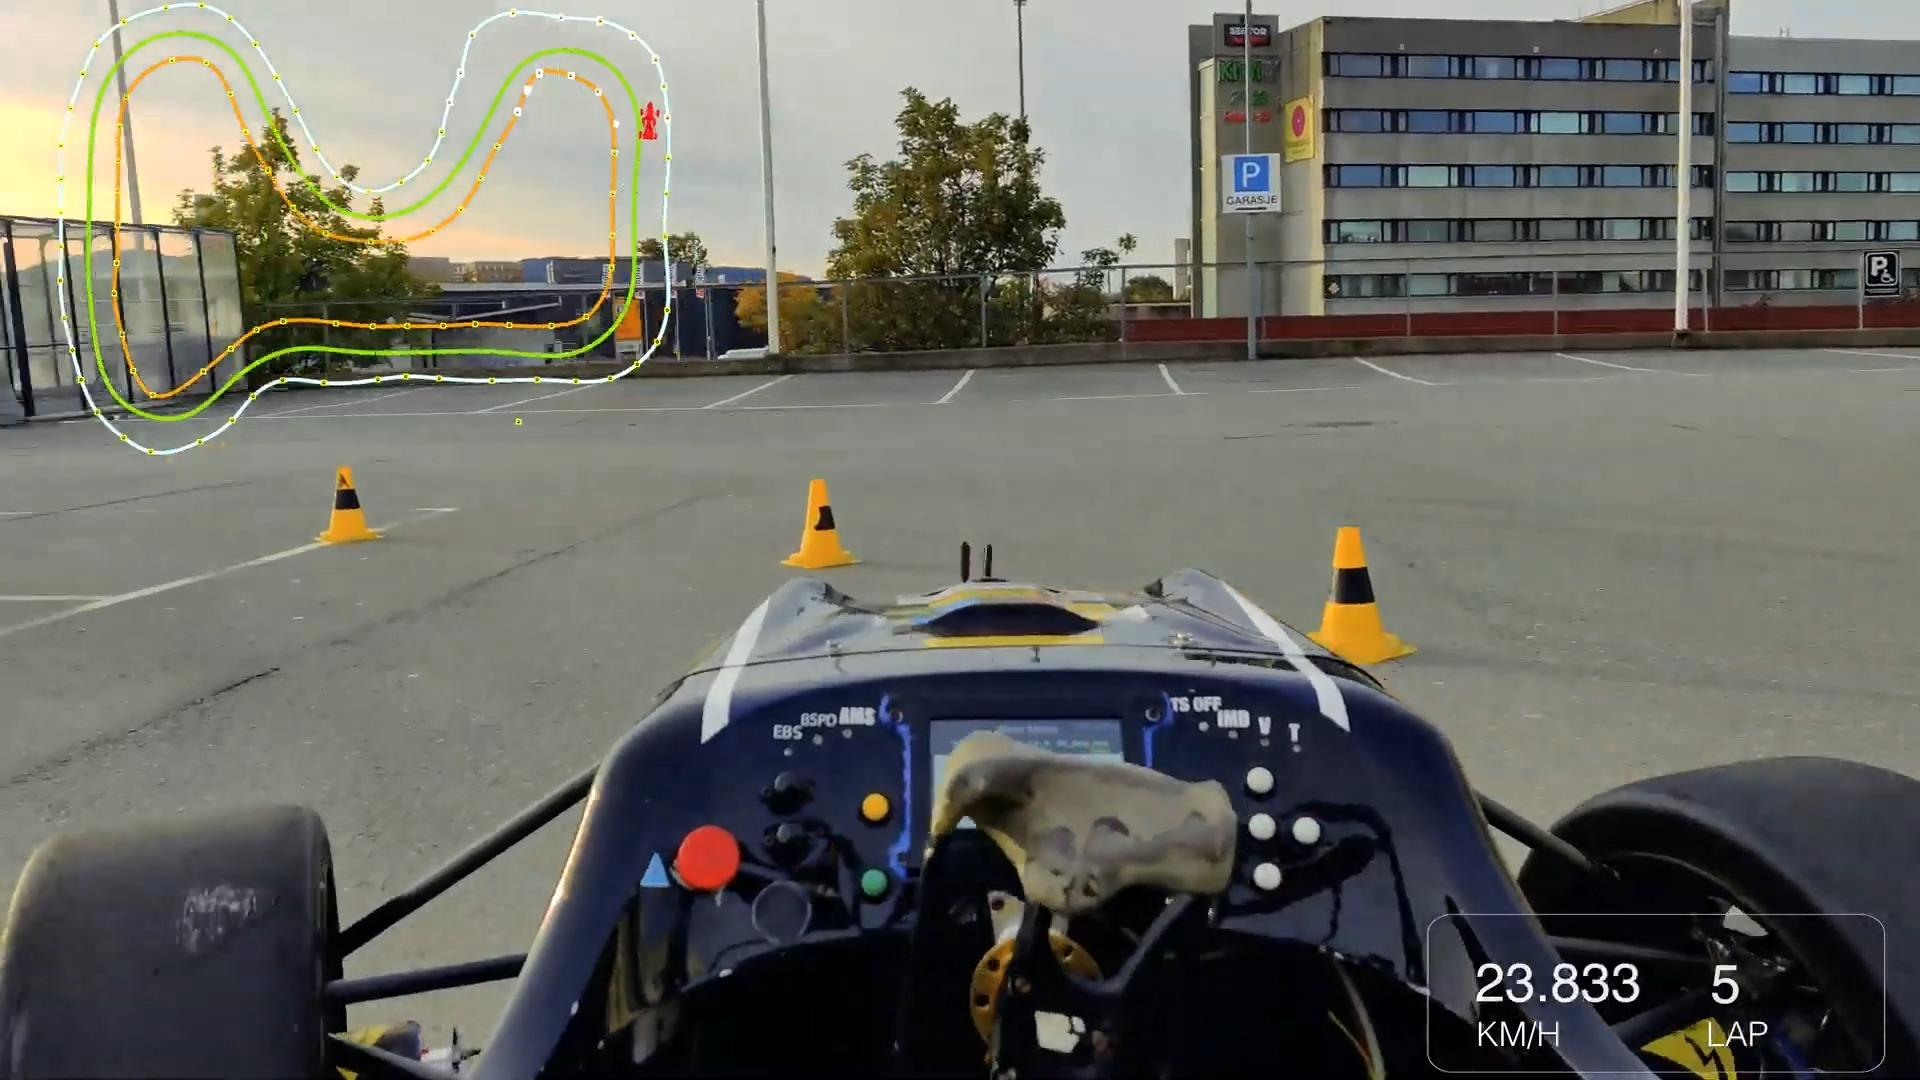yellow_cone: (1311, 520, 1420, 662), (781, 472, 861, 579), (306, 460, 392, 556)
